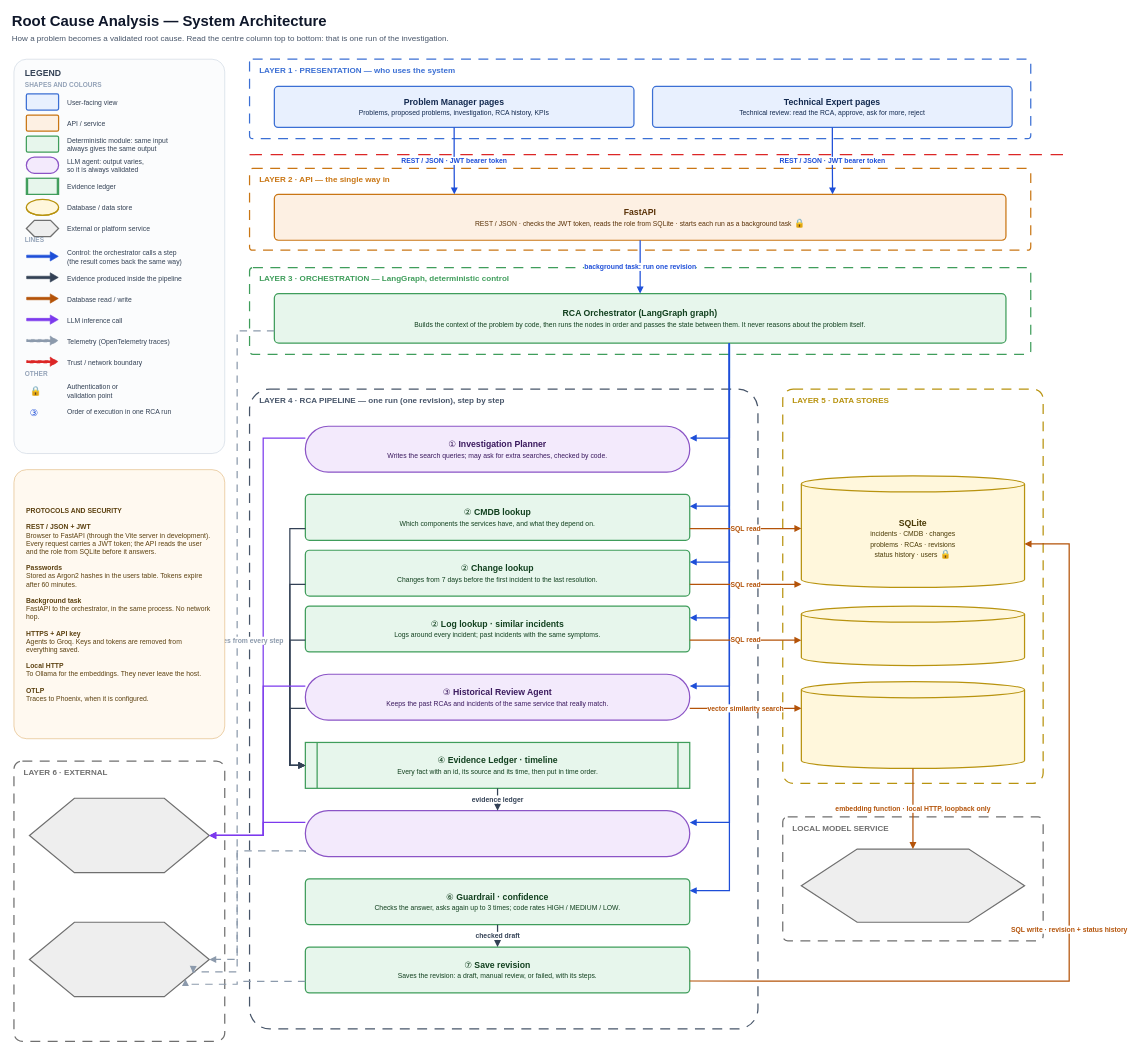
The diagram is 1138 pixels wide and 1052 high, and some of its shapes have lost their labels. Here are the shapes that lost their labels. From the top down, the centre of each, then its label:
At (x=912, y=635): "Logs log lines, a table of the same SQLite file".
At (x=912, y=725): "ChromaDB vector index of past incidents and sections of past RCAs".
At (x=119, y=835): "Groq API gpt-oss-120b, open-weight model fallback models optional".
At (x=497, y=833): "⑤ RCA Reasoning Agent Reads only the ledger and proposes candidate root causes.".
At (x=912, y=885): "Ollama nomic-embed-text runs on the same host".
At (x=119, y=959): "Arize Phoenix traces of every run, tool and model call".
